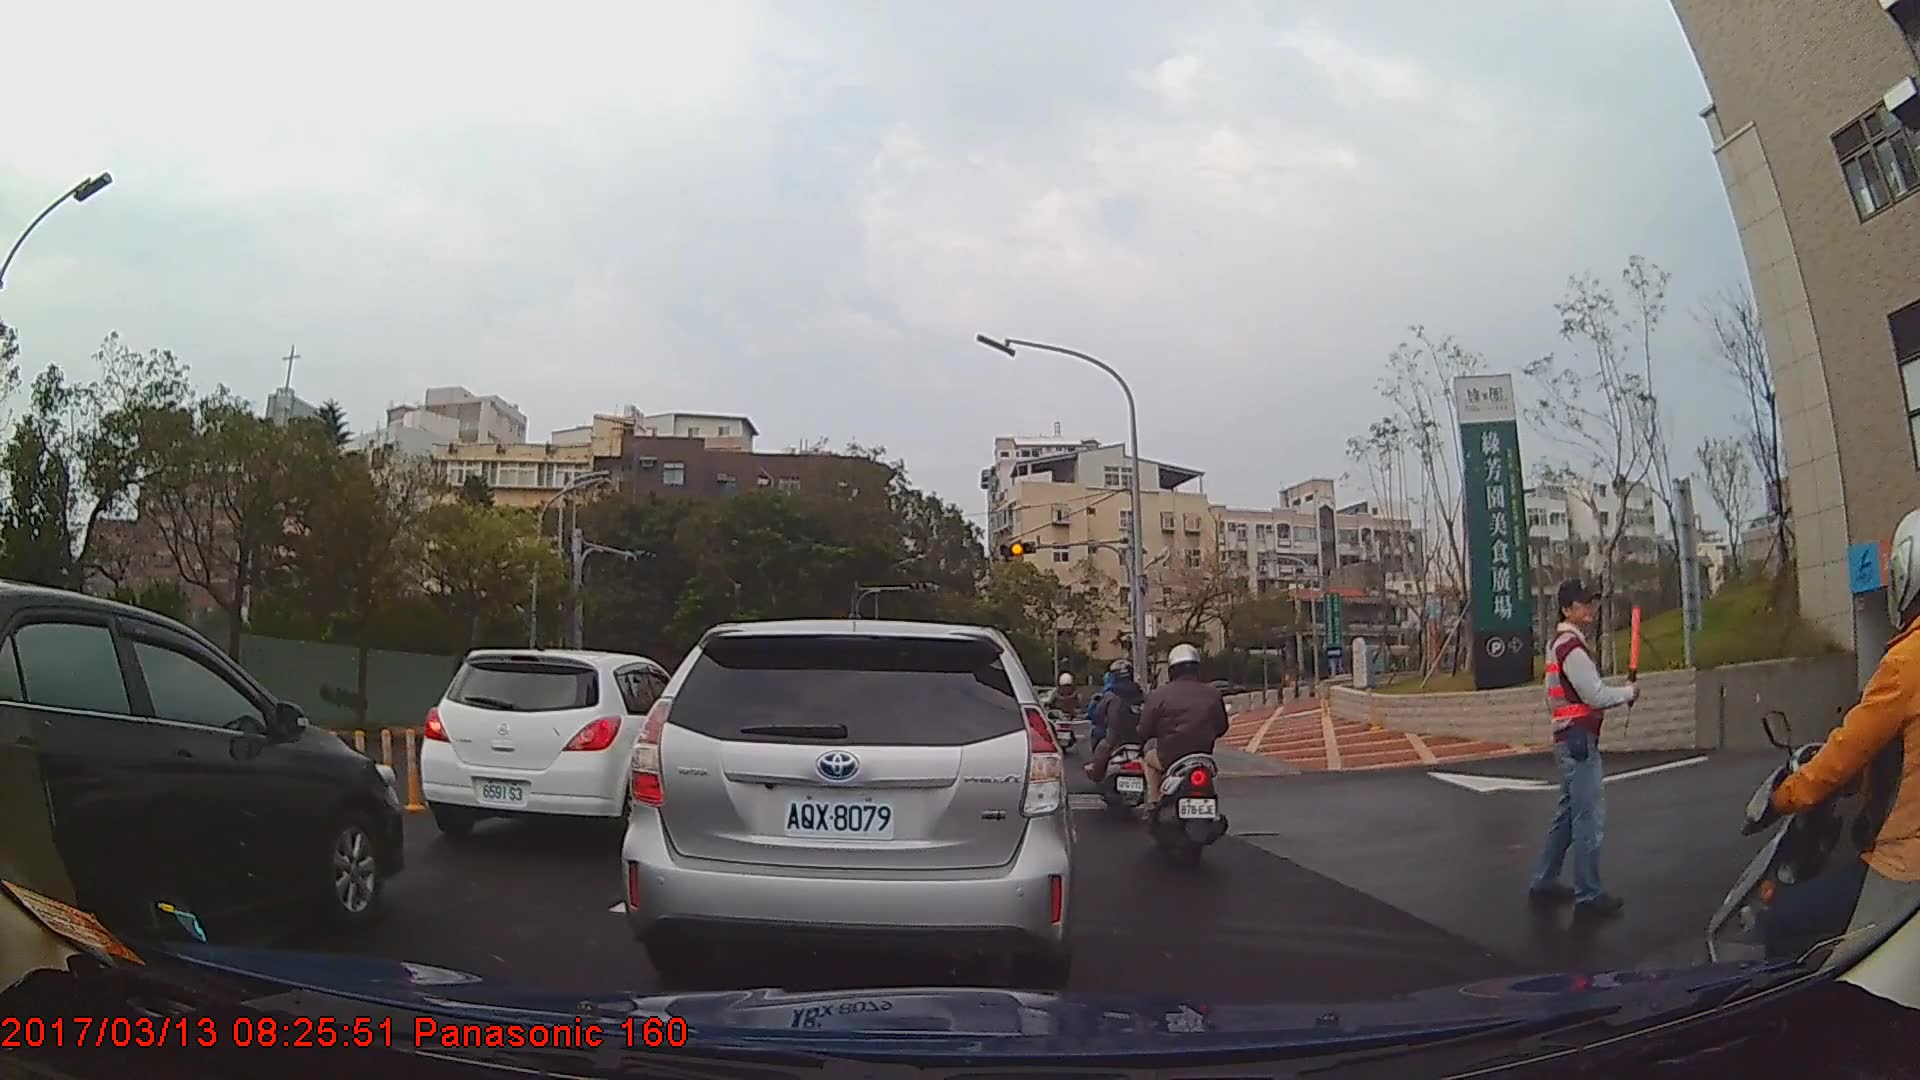pedestrian: (1535, 580, 1640, 909)
rider: (1697, 507, 1920, 1080), (1144, 641, 1229, 877), (1093, 659, 1152, 815), (1049, 671, 1083, 759)
vehicle: (622, 620, 1071, 986), (0, 580, 406, 960), (418, 649, 711, 844)
